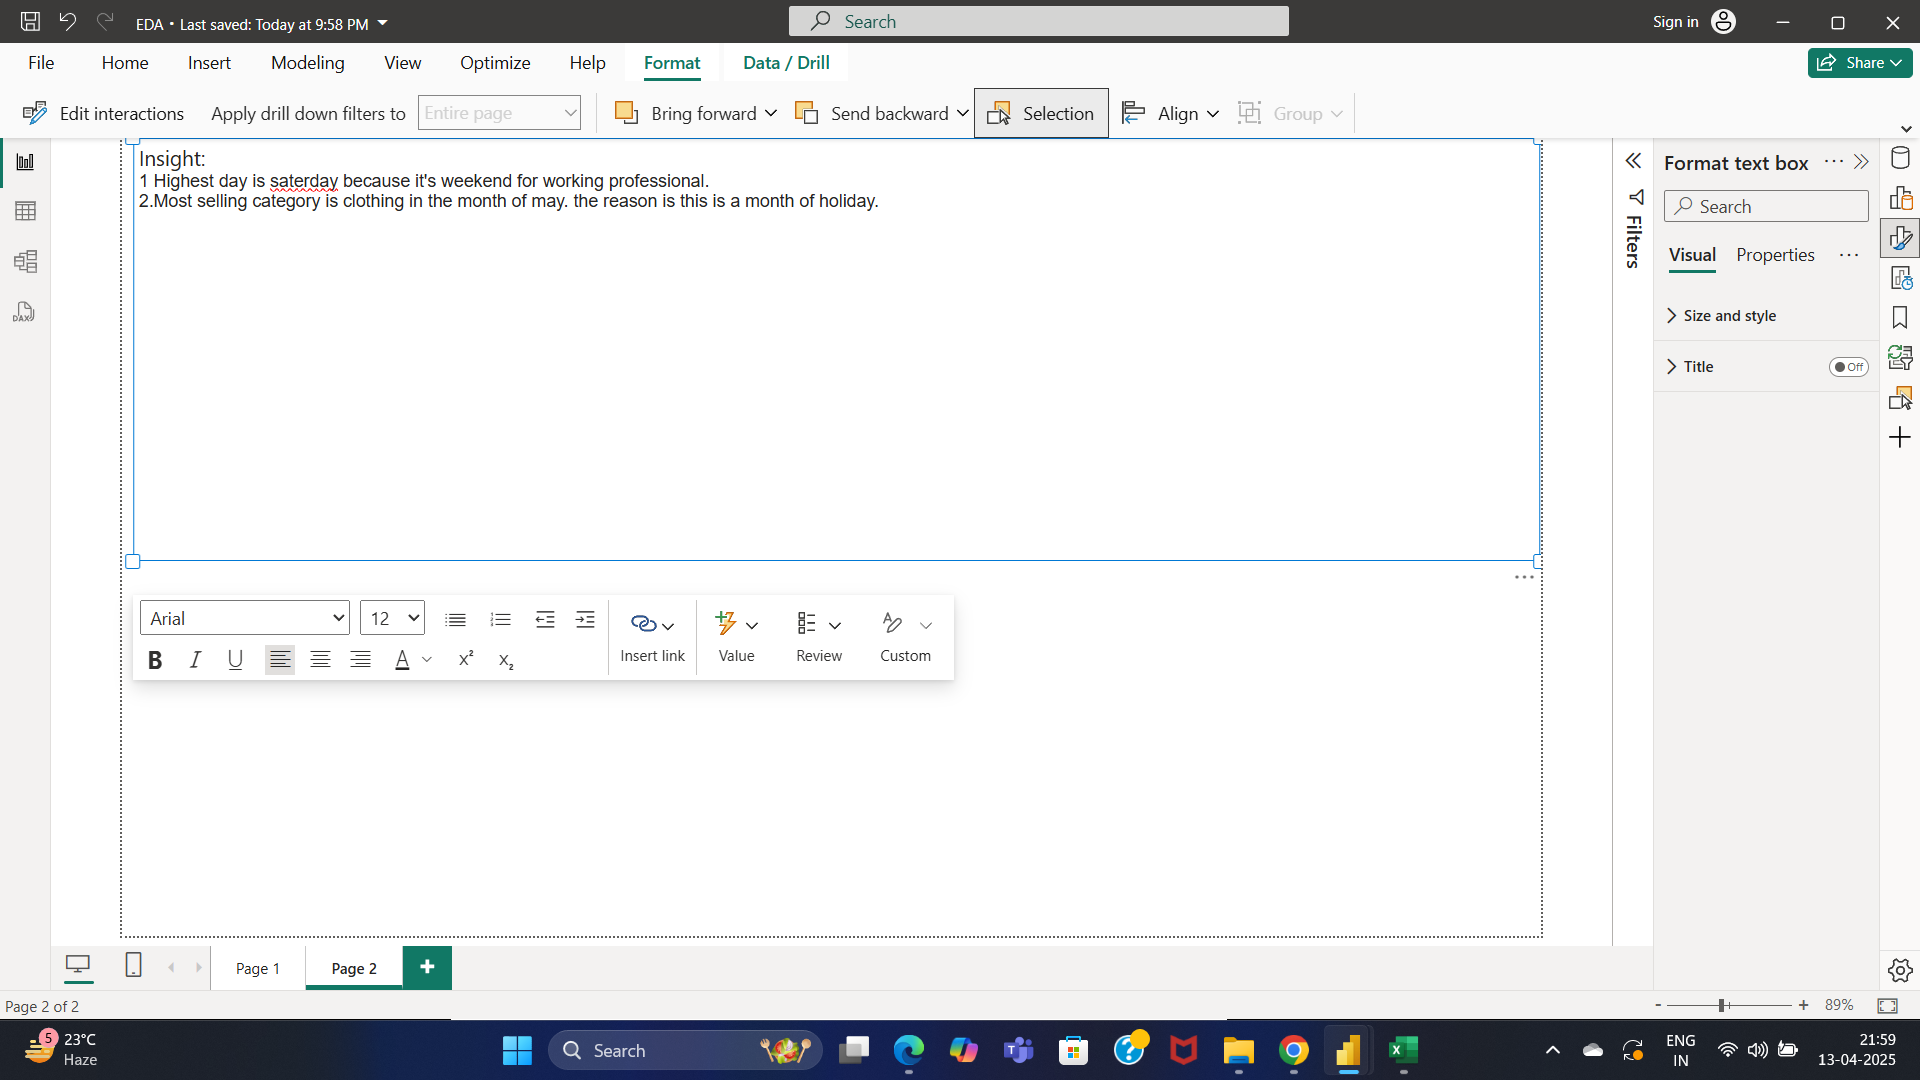

The dashboard page shown, as its layout file describes it:
{"tool":"powerbi","page":{"name":"Page 2","canvas":[1280,720],"ordinal":1},"visuals":[{"type":"textbox","box":[10.1,0,1269.6,382.3],"z":0}]}

Visuals, with their boxes on the page's 1280x720 design canvas (x1, y1, x2, y2). These are canvas units, not pixel positions in the 1920x1080 screenshot, which may show the page scaled, cropped or inside an application window:
textbox: x1=10, y1=0, x2=1280, y2=382
